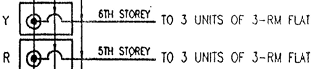Single Phase Tap-Off Unit: (14, 0, 79, 36), (16, 36, 77, 69)
